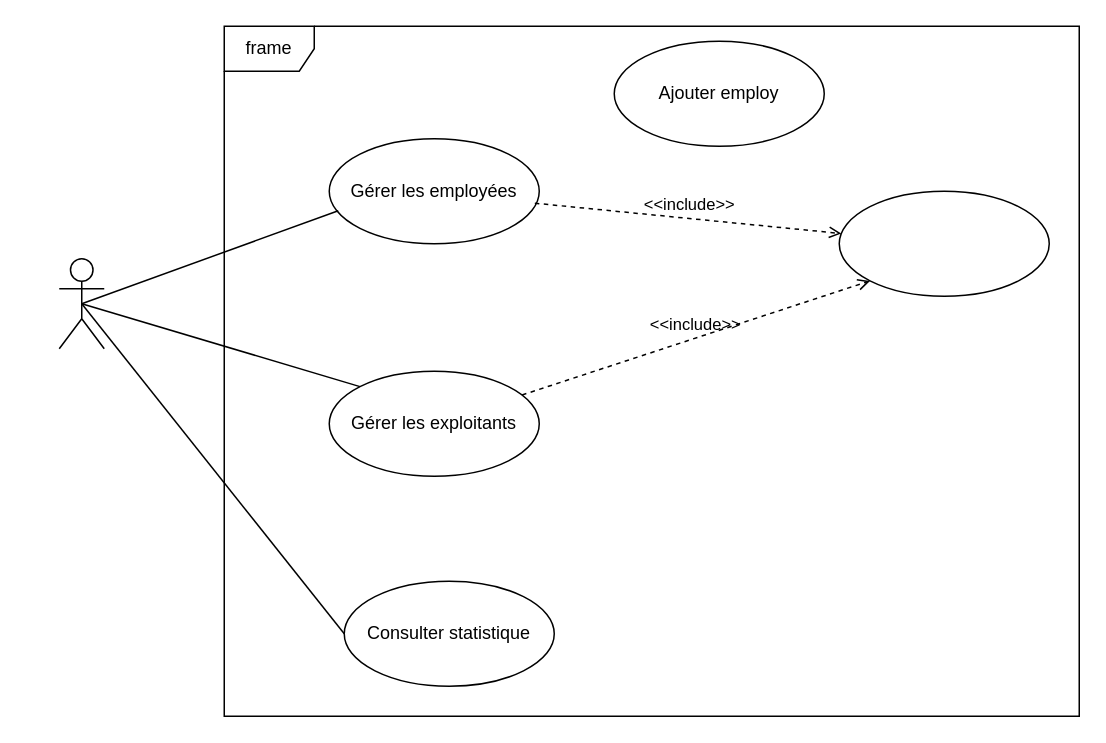
The diagram is 1106 pixels wide and 743 high, and some of its shapes have lost their labels. Here are the shapes that lost their labels. From the top down, the centre of each, then its label:
At [943,243]: "Authentification".
At [81,303]: "Adminstrateur".
